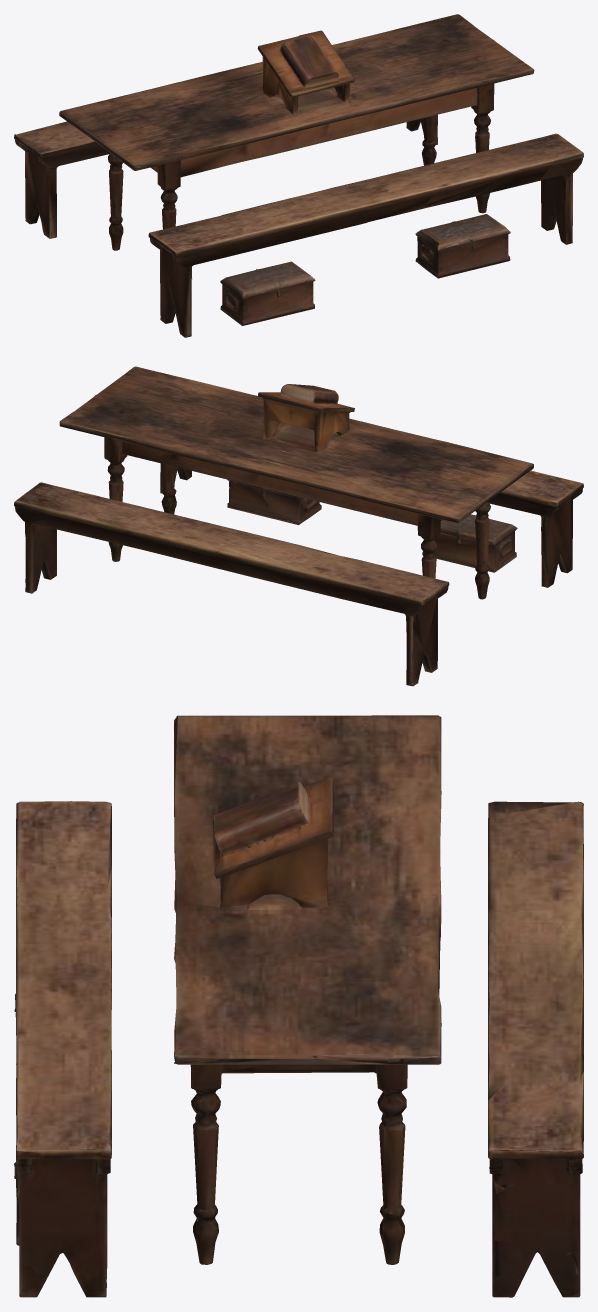
The model's file is meetinghouse-deacons-set.glb.
3 renders of one model, top to bottom at view 1: azimuth 30°, elevation 25°; view 2: azimuth 150°, elevation 25°; view 3: azimuth 270°, elevation 25°, orthographic. The views are drawn at different scales.
Parts seen in each view (by area): view 1: Mesh_0; view 2: Mesh_0; view 3: Mesh_0.
Part boxes in pixels (bbox=[...]): Mesh_0: bbox=[14, 14, 583, 337]; Mesh_0: bbox=[14, 366, 583, 686]; Mesh_0: bbox=[14, 715, 583, 1297].
Size of the model in its own units: 1.9 by 0.8688 by 1.31.
Materials: 1 (1 with a texture image).
